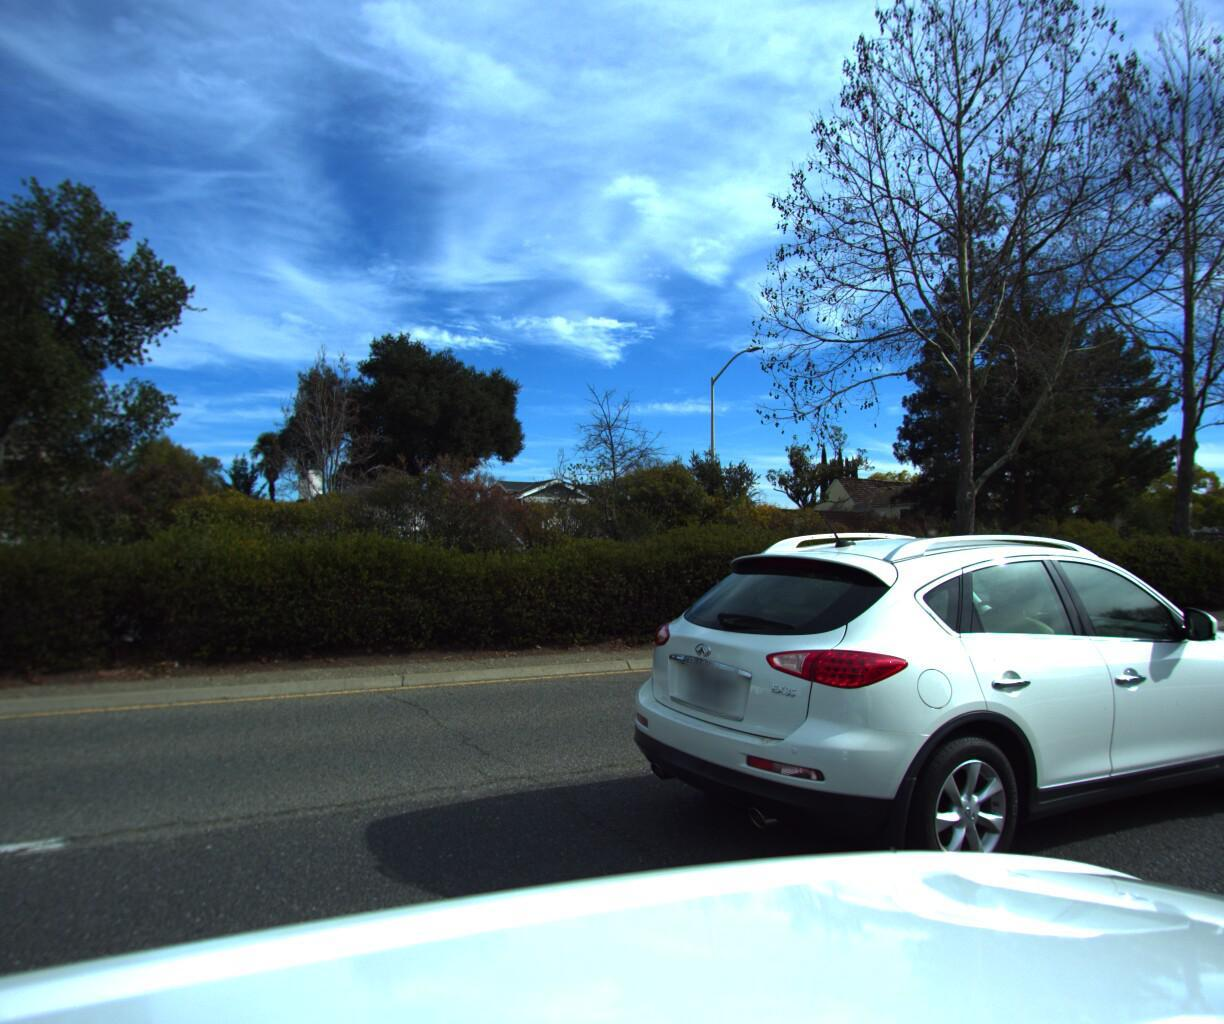car: (583, 505, 1224, 938)
